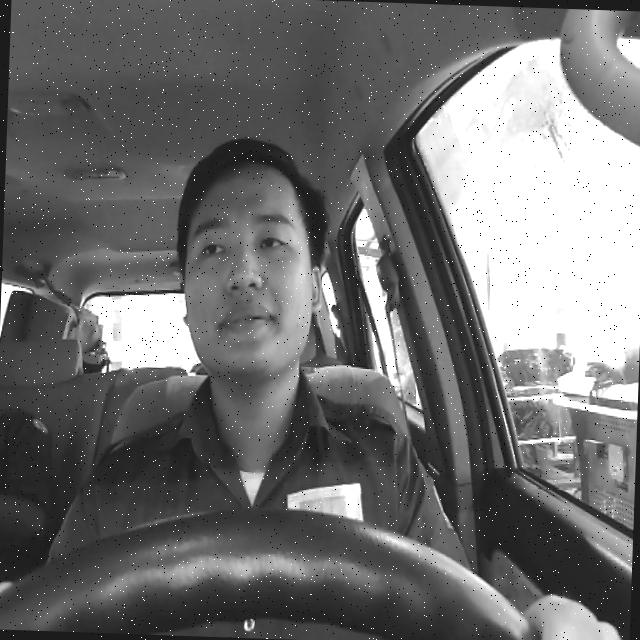yarning: (177, 163, 324, 384)
